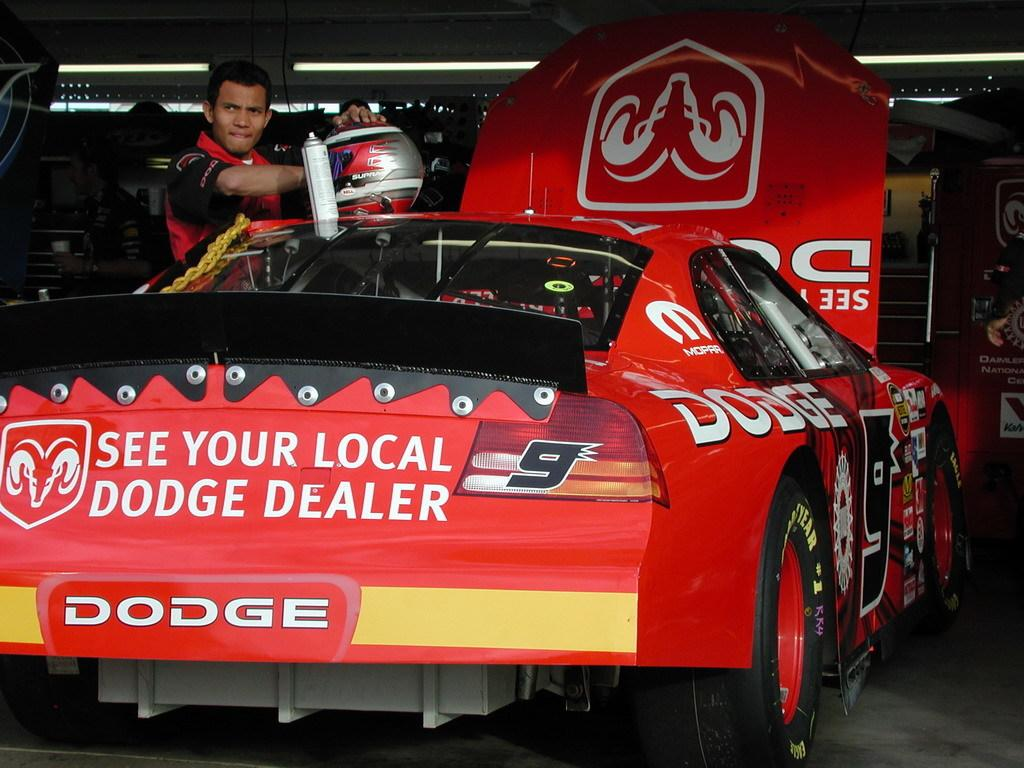helmet: (305, 120, 424, 219)
nohelmet: (202, 59, 273, 157)
